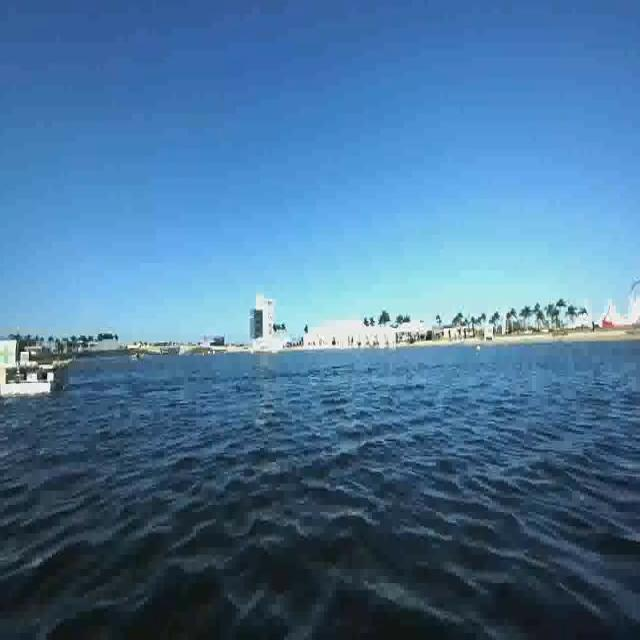blue-cross: (1, 339, 15, 367)
